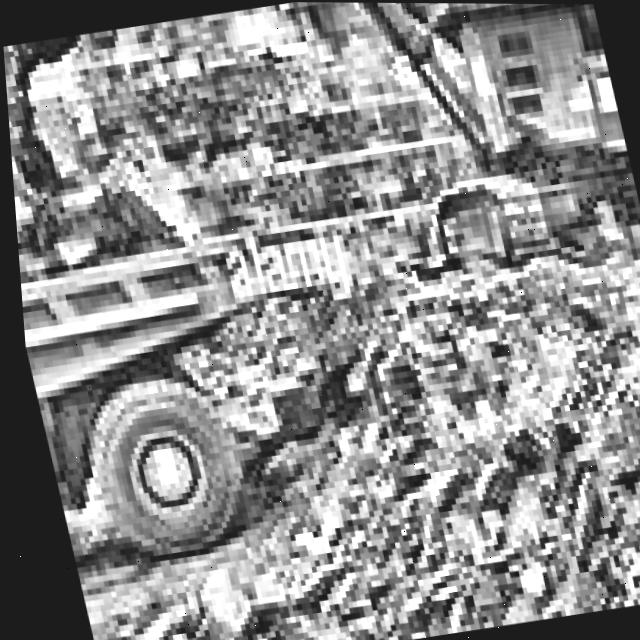dump_truck: (10, 174, 349, 614)
excavator: (0, 0, 640, 380)
